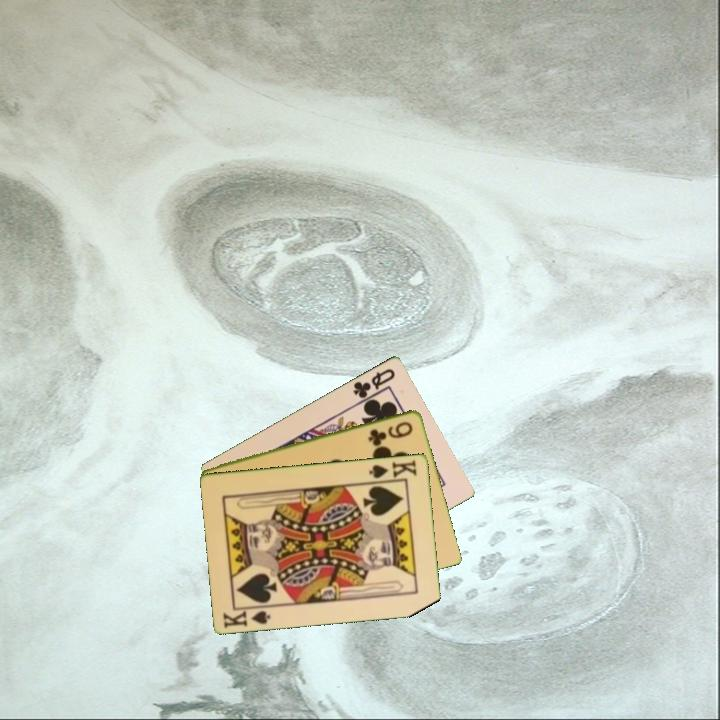9c: (365, 418, 416, 447)
Ks: (366, 456, 420, 484), (220, 603, 274, 631)
Qc: (349, 365, 398, 405)
